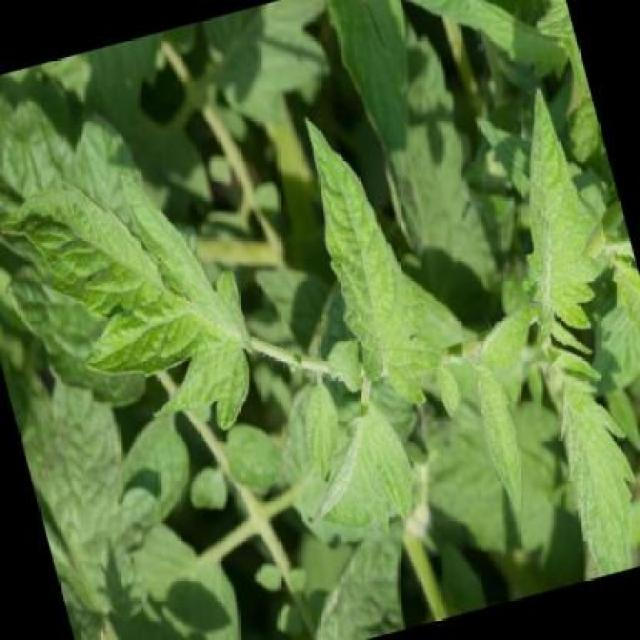Healthy Leaf: (6, 128, 309, 446), (291, 86, 466, 426), (457, 60, 638, 369), (272, 361, 438, 574)
